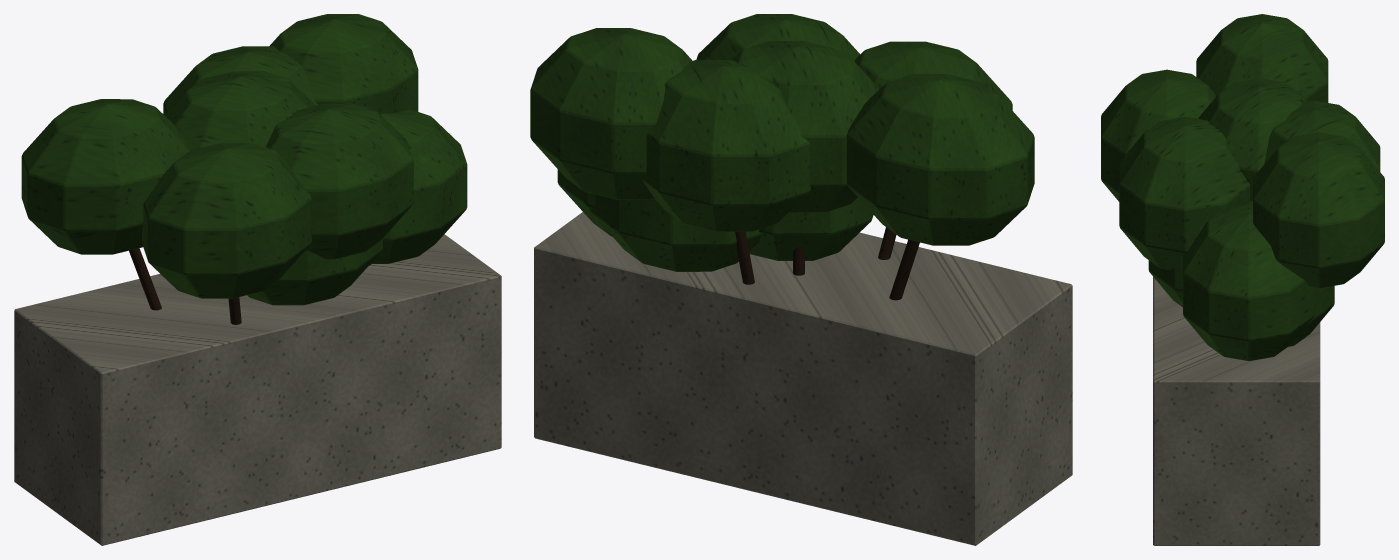
File: PROP-D9B4A3B9AFC2_lod1.glb
3 views of the same model, side by side, from view 1: azimuth 30°, elevation 25°; view 2: azimuth 150°, elevation 25°; view 3: azimuth 270°, elevation 25° (orthographic). The views are drawn at different scales.
Parts seen in each view (by area): view 1: planter.001, foliage.001, plant_stem.001; view 2: planter.001, foliage.001, plant_stem.001; view 3: foliage.001, planter.001.
Part boxes in pixels (<box>): planter.001: <box>14,234,501,545</box>; foliage.001: <box>21,14,467,305</box>; plant_stem.001: <box>129,248,241,324</box>; planter.001: <box>534,212,1072,545</box>; foliage.001: <box>530,14,1034,271</box>; plant_stem.001: <box>735,227,919,300</box>; foliage.001: <box>1101,14,1384,360</box>; planter.001: <box>1153,277,1320,545</box>.
Bounding box in the file's own units: 1.54 × 1.33 × 0.9347.
Materials: 4 (4 with a texture image).
